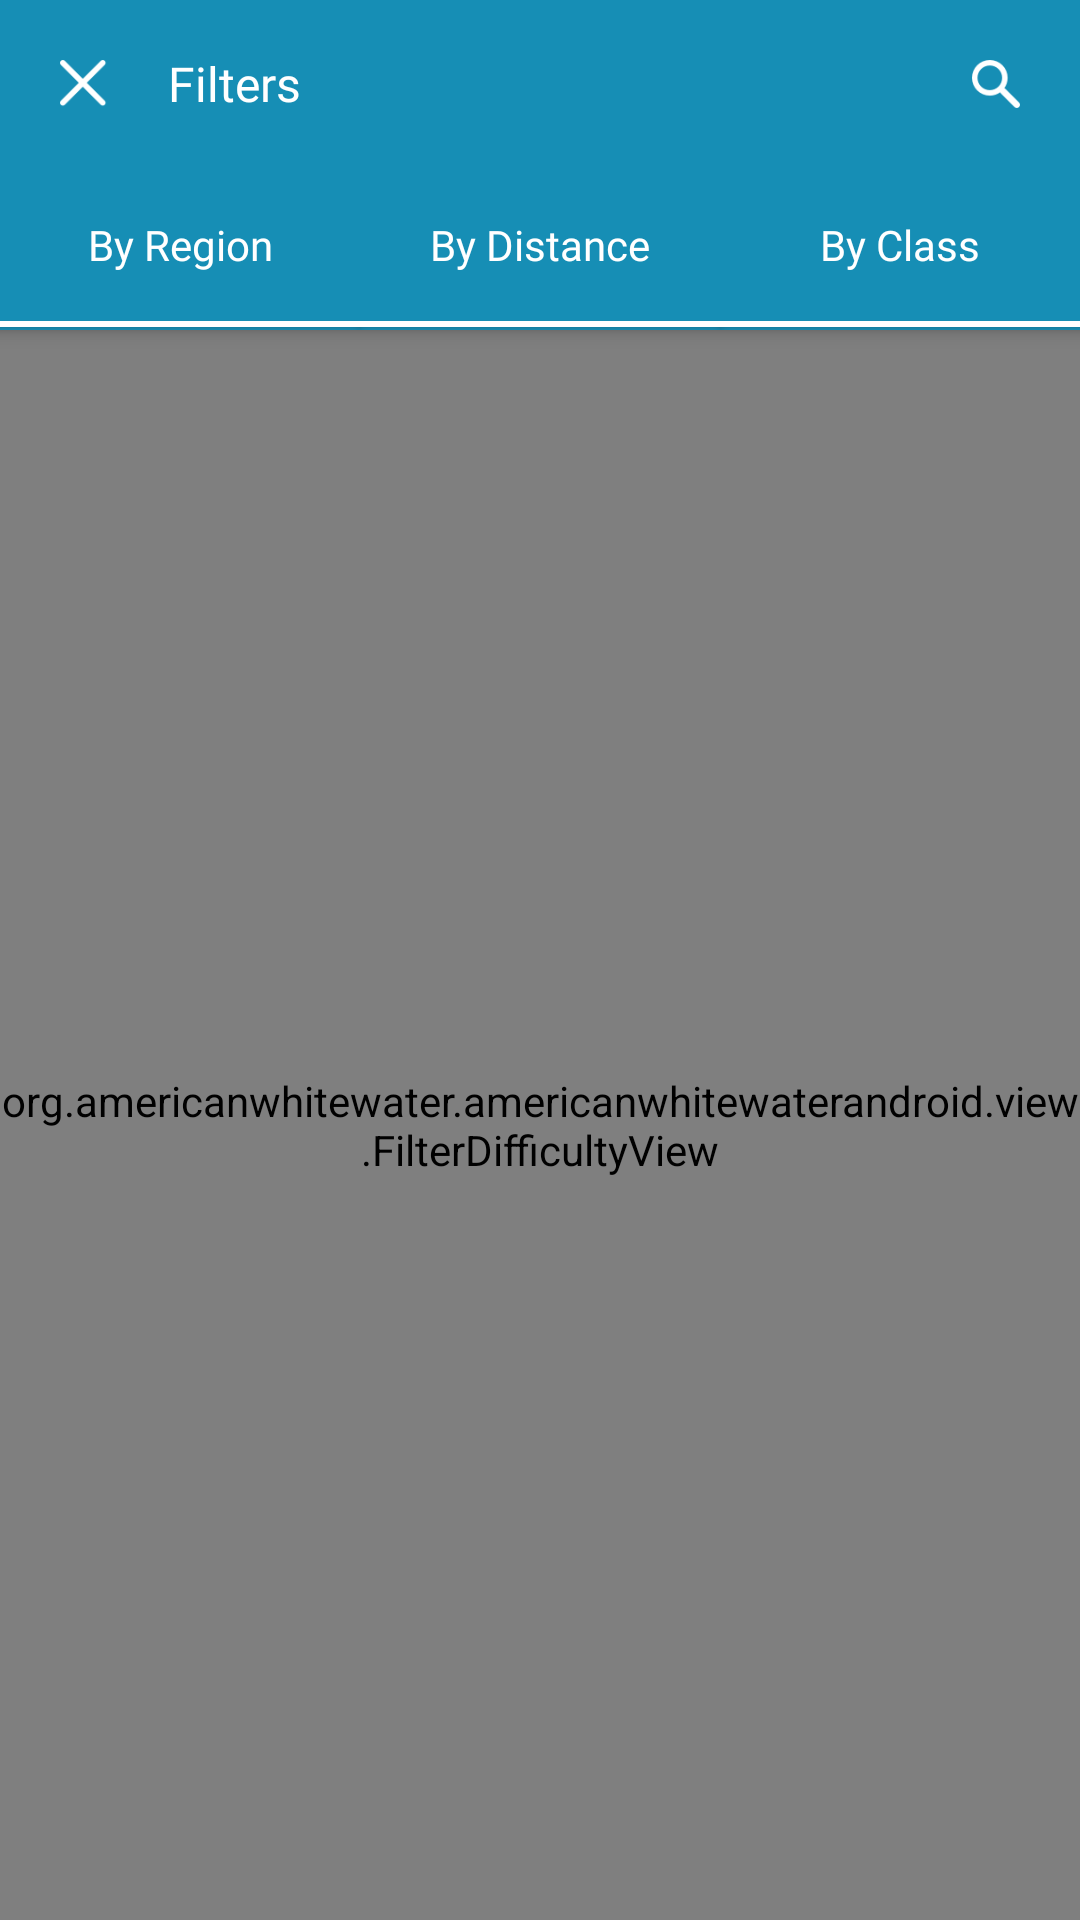

Icon bounding boxes for this 1080px x 1920px phone screenshot, format rect(x1, y1, x2, y2):
close: rect(60, 60, 106, 106)
search: rect(972, 60, 1020, 108)
